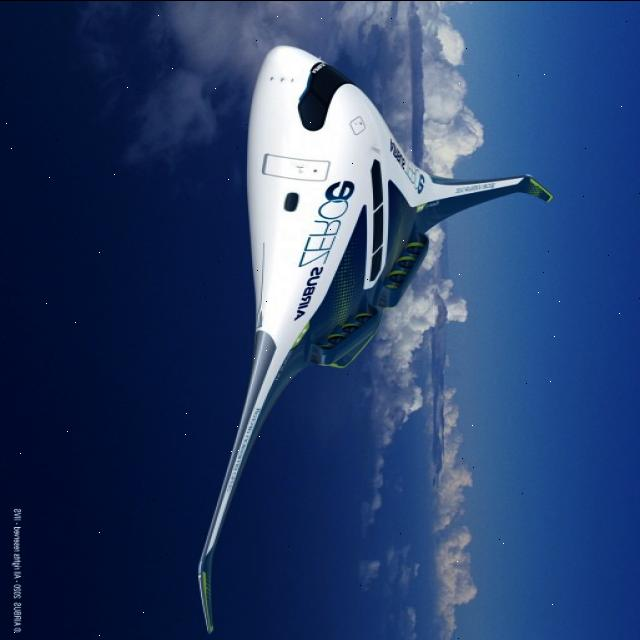jet: (118, 11, 586, 618)
